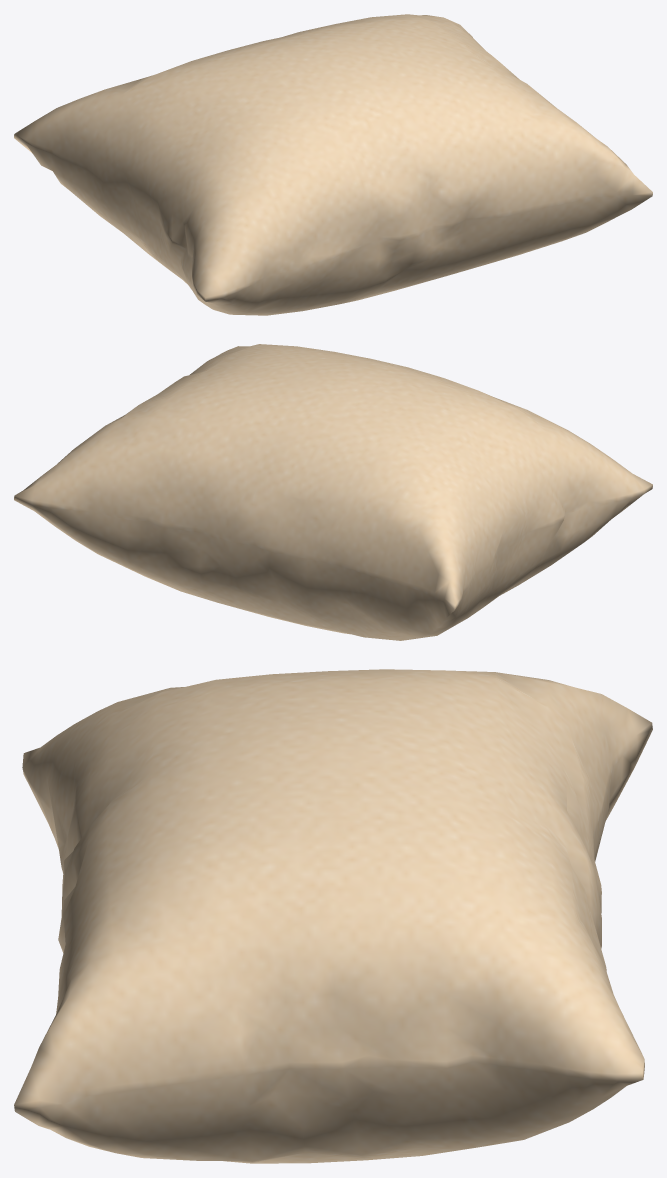
Rendered from copper_conova bed.fbx.
The picture shows the model from 3 angles, top to bottom: view 1: azimuth 30°, elevation 25°; view 2: azimuth 150°, elevation 25°; view 3: azimuth 270°, elevation 25°; orthographic projection. The views are drawn at different scales.
Visible parts, largest first — view 1: pillow Copper Grove Aanekoski.001; view 2: pillow Copper Grove Aanekoski.001; view 3: pillow Copper Grove Aanekoski.001.
Part boxes in pixels (left/top/right/bottom): pillow Copper Grove Aanekoski.001: left=14, top=14, right=652, bottom=315; pillow Copper Grove Aanekoski.001: left=14, top=344, right=652, bottom=640; pillow Copper Grove Aanekoski.001: left=14, top=669, right=652, bottom=1163.
Bounding box in the file's own units: 0.5195 × 0.246 × 0.3985.
